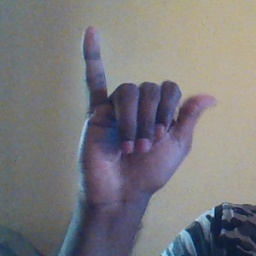J: (74, 24, 216, 195)
